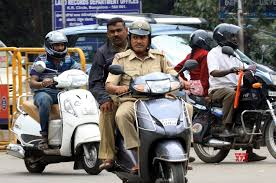helmet: (211, 19, 249, 59), (37, 29, 69, 61), (182, 29, 211, 54)
